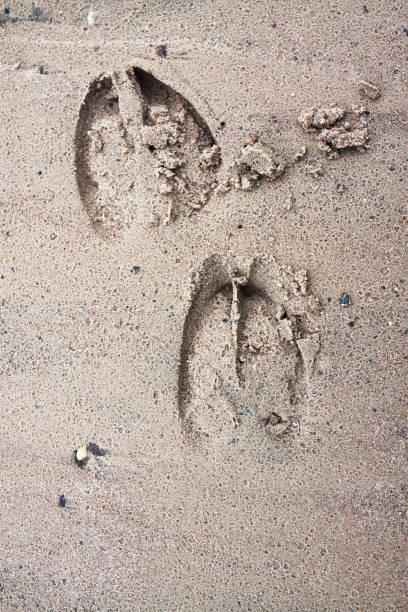animal_footprint: (178, 256, 319, 442), (75, 67, 220, 235)
